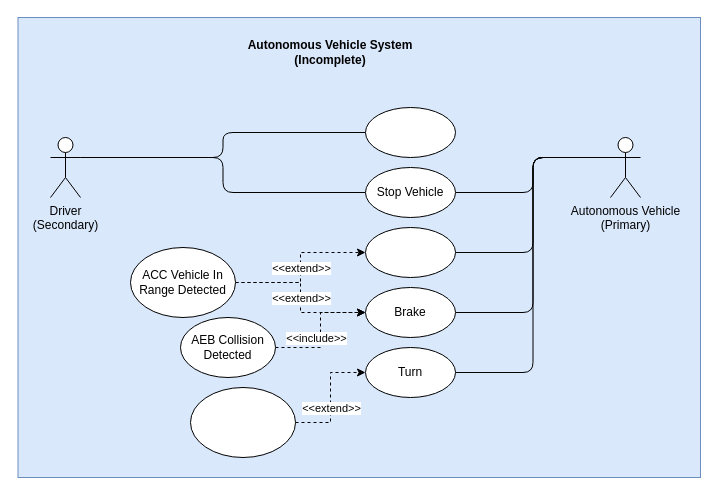
Image size: 718x495. Some labels were removed from this diagram. The shapes that lost their labels are listed below. From the top down, each one's centre as x and y in pixels, then its label:
At pixel 410 132: "Start Vehicle".
At pixel 410 252: "Accelerate".
At pixel 243 422: "LKA Lane Drift Exceeds Limit".
